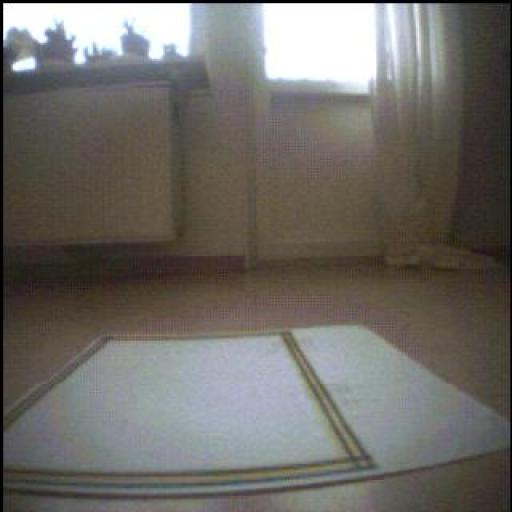Pad: (5, 327, 512, 497)
